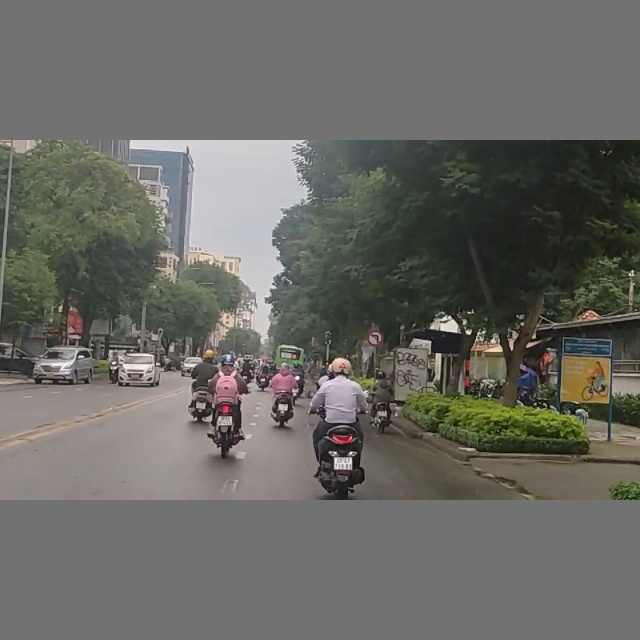P.123a: (367, 331, 383, 345)
